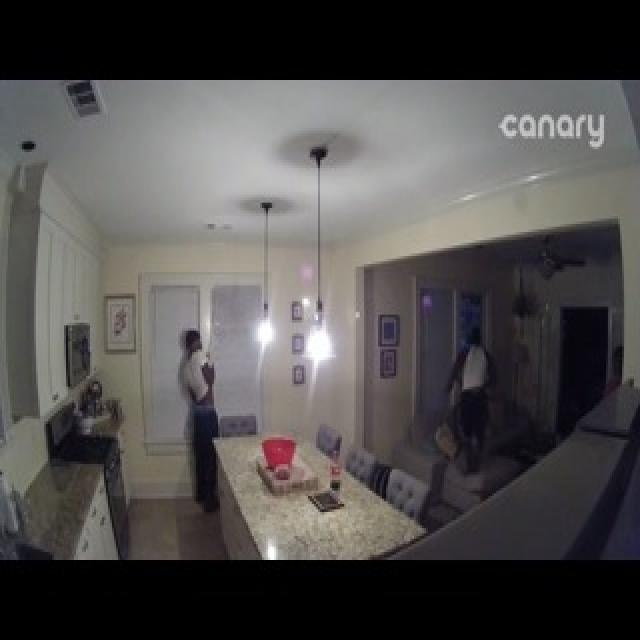thief: (167, 316, 229, 520), (444, 308, 491, 461)
